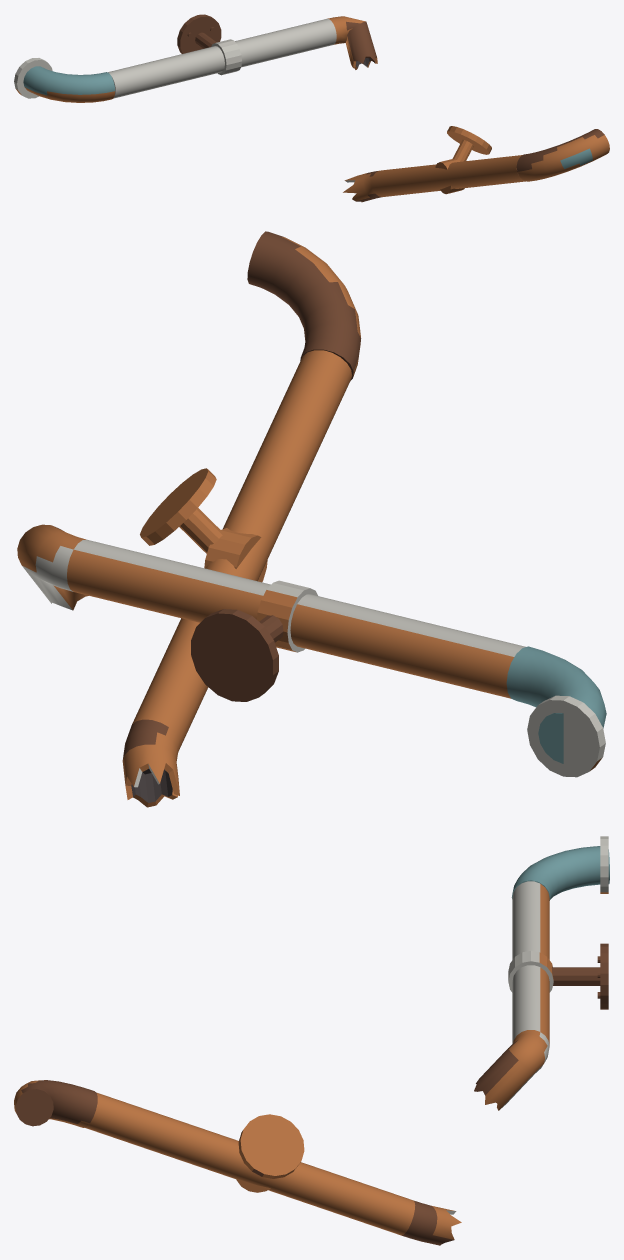
File: wall_bar_v4.fbx
3 views of the same model, one above another, from view 1: azimuth 30°, elevation 25°; view 2: azimuth 150°, elevation 25°; view 3: azimuth 270°, elevation 25° (orthographic). The views are drawn at different scales.
Visible parts, largest first — view 1: 04_Handrail_Corner_Damaged_Mesh; view 2: 04_Handrail_Corner_Damaged_Mesh; view 3: 04_Handrail_Corner_Damaged_Mesh.
Part boxes in pixels (left/top/right/bottom): 04_Handrail_Corner_Damaged_Mesh: left=14, top=14, right=609, bottom=202; 04_Handrail_Corner_Damaged_Mesh: left=17, top=231, right=606, bottom=807; 04_Handrail_Corner_Damaged_Mesh: left=14, top=836, right=609, bottom=1245.
Size of the model in its own units: 58.7 by 24.5 by 57.64.
